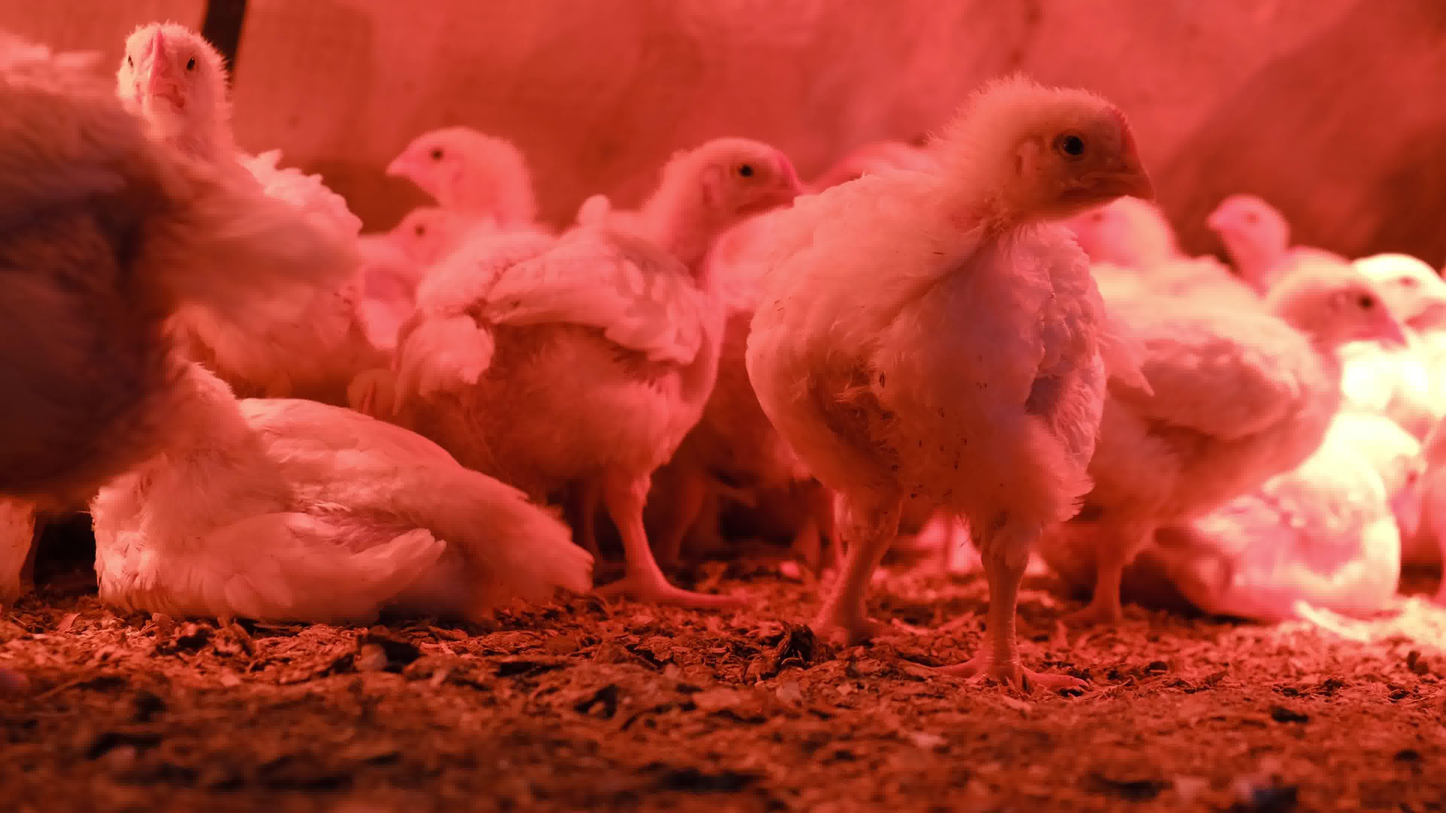AbNormal: (58, 386, 602, 651), (1132, 386, 1437, 623)
Normal: (764, 75, 1147, 715), (412, 145, 795, 623), (0, 0, 190, 589), (87, 13, 382, 371), (1103, 233, 1403, 566), (343, 88, 584, 262), (1322, 205, 1444, 391), (1188, 169, 1301, 269)
